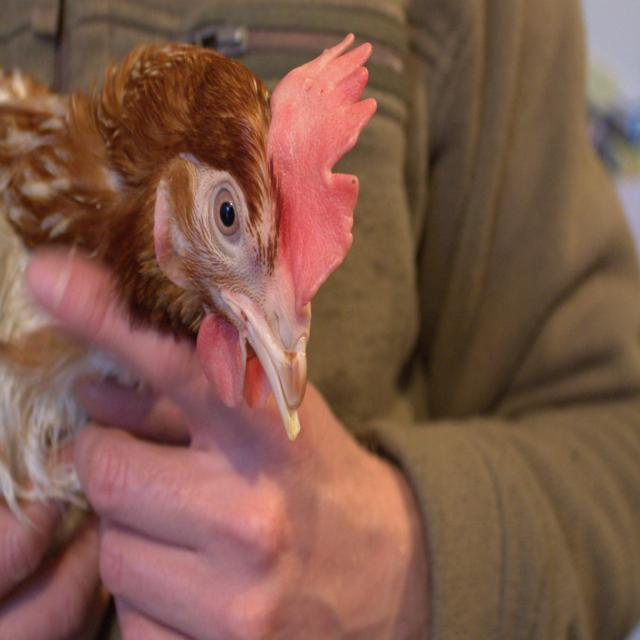Chicken: (0, 26, 380, 516)
